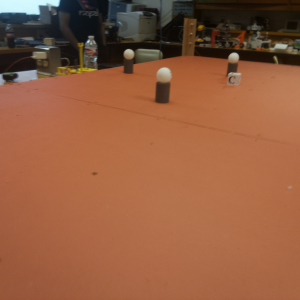blockC: (227, 72, 240, 87)
corner: (183, 18, 196, 56)
obstacle: (154, 66, 170, 103), (226, 52, 240, 75), (124, 48, 134, 74)
